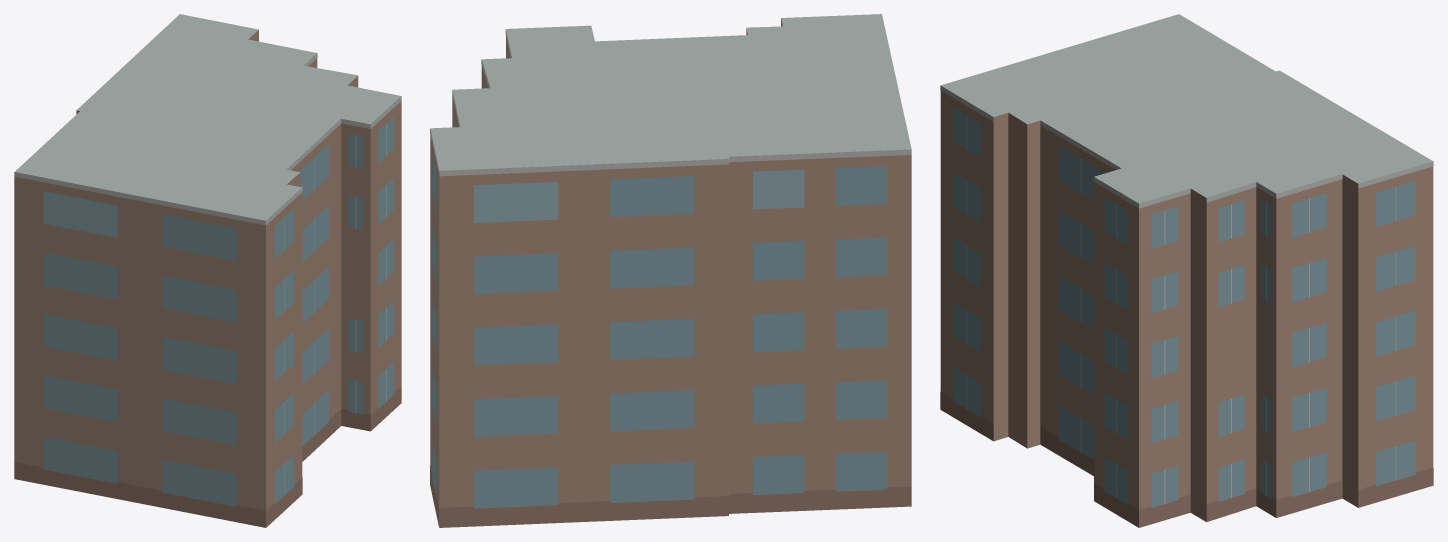
File: survey-upis-32694123.glb
3 views of the same model, side by side, from view 1: azimuth 30°, elevation 25°; view 2: azimuth 150°, elevation 25°; view 3: azimuth 270°, elevation 25° (orthographic). The views are drawn at different scales.
Parts seen in each view (by area): view 1: survey-upis-32694123.tmp; view 2: survey-upis-32694123.tmp; view 3: survey-upis-32694123.tmp.
Part boxes in pixels (box(x1,y1,x2,y2)): survey-upis-32694123.tmp: box(14, 14, 401, 527); survey-upis-32694123.tmp: box(430, 14, 911, 527); survey-upis-32694123.tmp: box(940, 14, 1433, 527).
Size of the model in its own units: 19.95 by 15.9 by 21.92.
